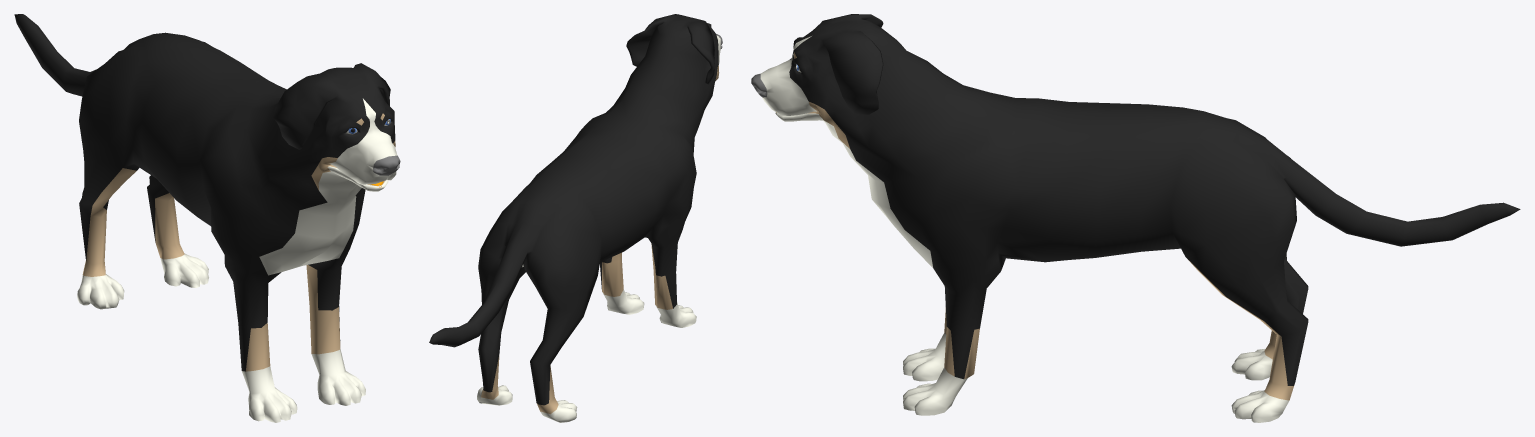
File: dog.dae
The picture shows the model from 3 angles, left to right: view 1: azimuth 30°, elevation 25°; view 2: azimuth 150°, elevation 25°; view 3: azimuth 270°, elevation 25°; orthographic projection. The views are drawn at different scales.
Visible parts, largest first — view 1: Model; view 2: Model; view 3: Model.
Part boxes in pixels (x1,y1,x2,y2): Model: (14,14,400,422); Model: (429,14,722,422); Model: (751,14,1520,422).
Size of the model in its own units: 573 by 2678 by 1417.
